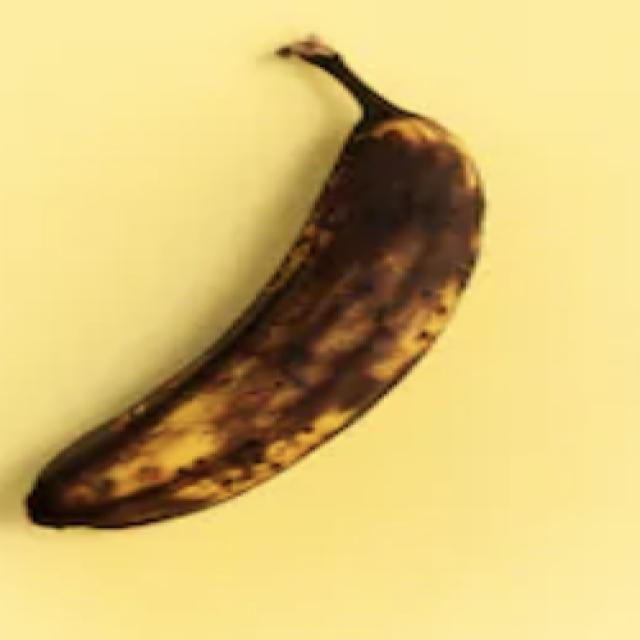Rotten: (20, 18, 503, 548)
